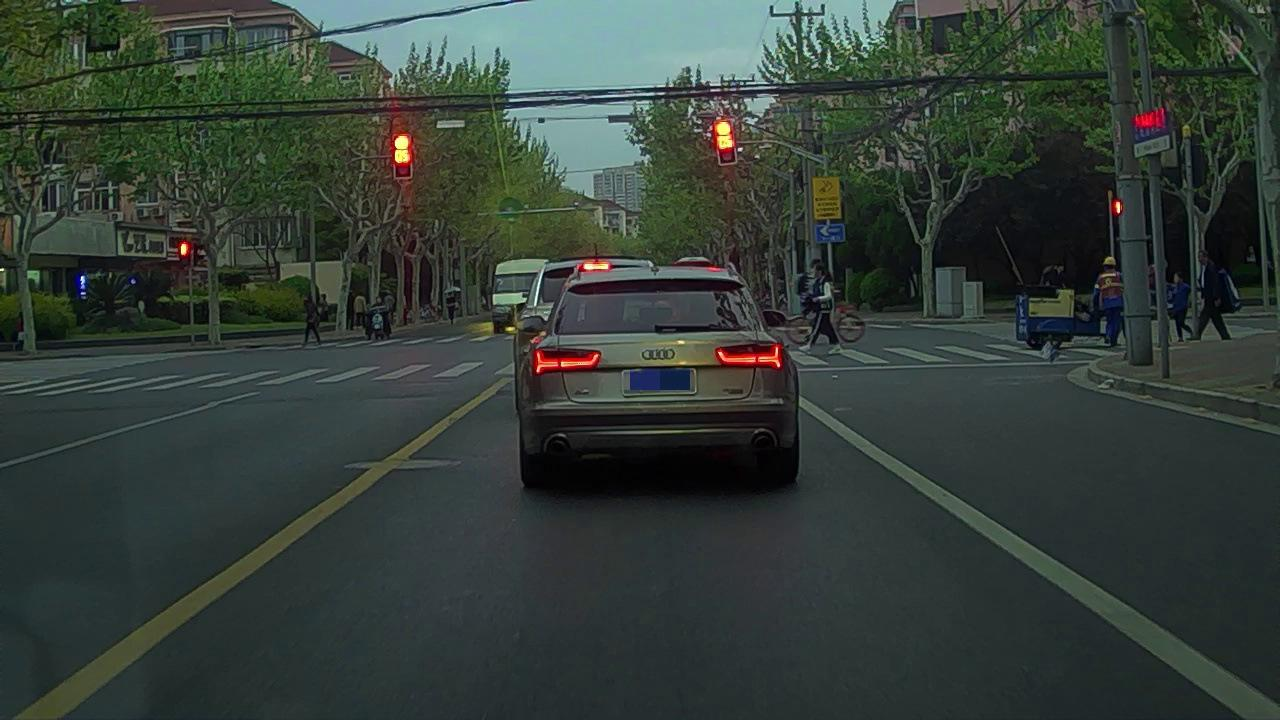traffic_light: (716, 119, 740, 166), (391, 132, 413, 176)
